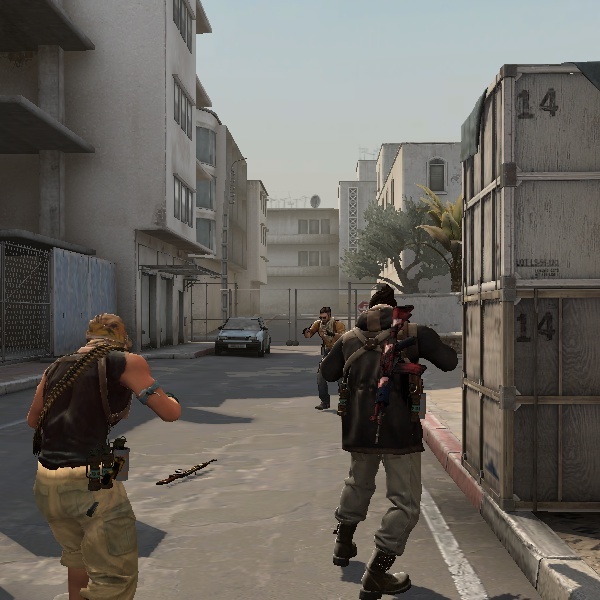t_body: (19, 305, 188, 593), (308, 280, 462, 585), (302, 299, 354, 409)
t_head: (75, 305, 142, 369), (362, 282, 408, 335), (315, 300, 335, 327)
